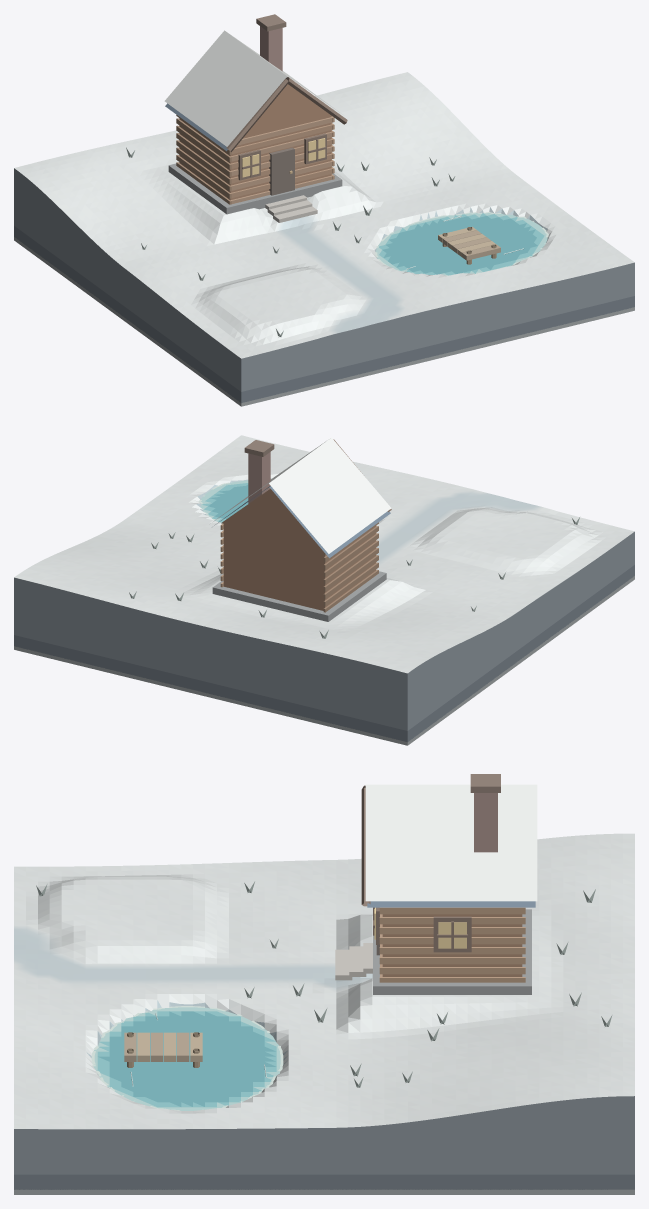
The model's file is J027_proc.glb.
The picture shows the model from 3 angles, top to bottom: view 1: azimuth 30°, elevation 25°; view 2: azimuth 150°, elevation 25°; view 3: azimuth 270°, elevation 25°; orthographic projection. The views are drawn at different scales.
Parts seen in each view (by area): view 1: proc_ground, proc_skirt, proc_structure, proc_water, proc_glow; view 2: proc_ground, proc_skirt, proc_structure, proc_water; view 3: proc_ground, proc_skirt, proc_structure, proc_water, proc_grass, proc_glow, proc_foam.
Boxes of the visible parts, box(x1,y1,x2,y2) form: proc_ground: box(14, 72, 634, 358); proc_skirt: box(14, 168, 634, 406); proc_structure: box(164, 14, 500, 264); proc_water: box(375, 213, 547, 275); proc_glow: box(242, 138, 325, 177); proc_ground: box(14, 435, 634, 673); proc_skirt: box(14, 531, 634, 745); proc_structure: box(212, 437, 391, 621); proc_water: box(200, 480, 248, 523); proc_ground: box(14, 833, 634, 1129); proc_skirt: box(14, 1096, 634, 1194); proc_structure: box(124, 774, 537, 1067); proc_water: box(93, 1007, 280, 1110); proc_grass: box(36, 881, 612, 1087); proc_glow: box(374, 907, 466, 948); proc_foam: box(91, 1006, 283, 1110).
Bounding box in the file's own units: 8 × 4.08 × 8.
